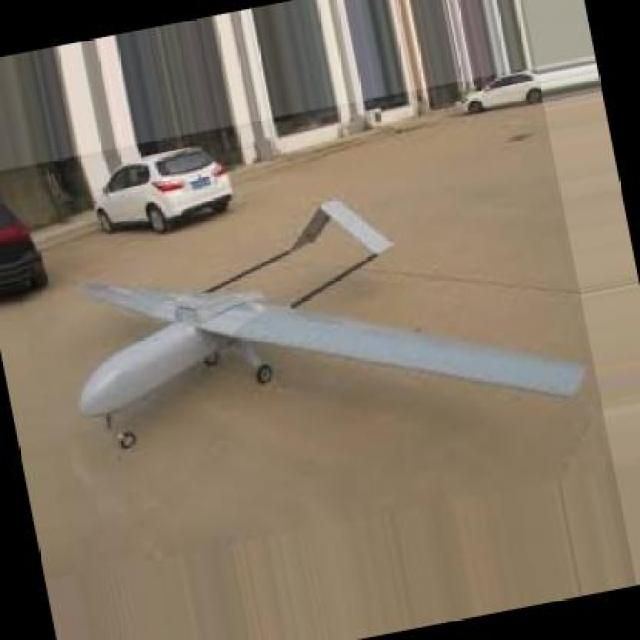iha: (42, 197, 594, 455)
